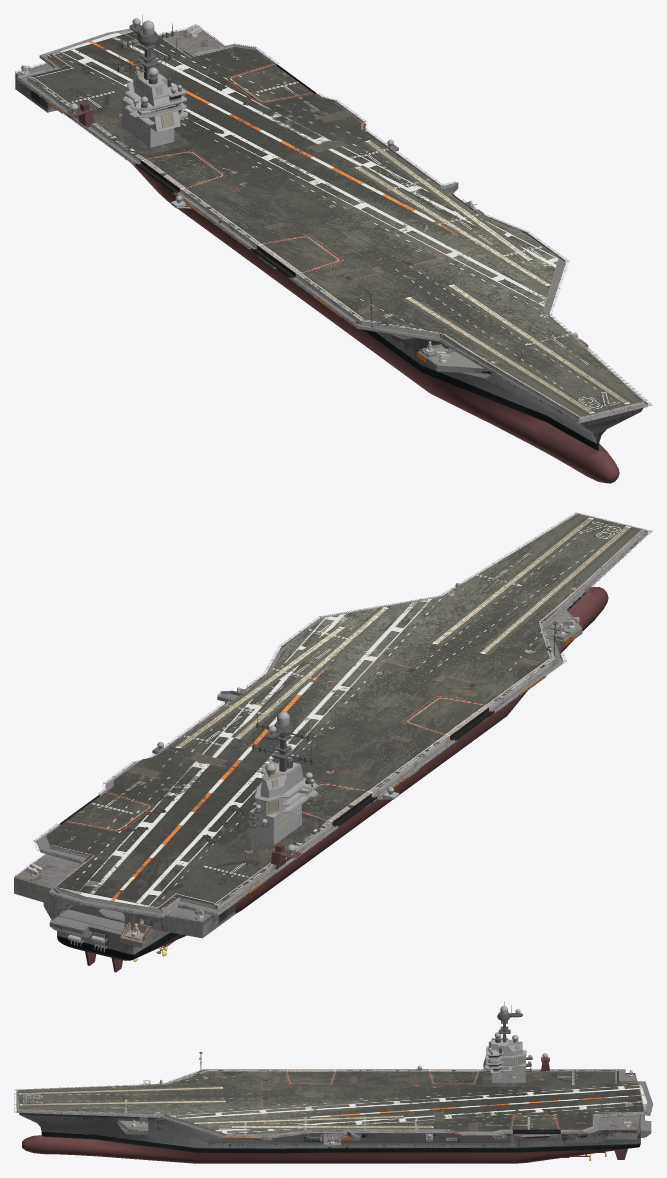
The model's file is gerald ford carrier.fbx.
3 views of the same model, one above another, from view 1: azimuth 30°, elevation 25°; view 2: azimuth 150°, elevation 25°; view 3: azimuth 270°, elevation 25° (orthographic). The views are drawn at different scales.
Visible parts, largest first — view 1: ship_deck, ship_lower, ship_mid, ship_bridge, hull_handrail132, elevator_right_back, elevator_right_front, elevator_left_back, pCube169; view 2: ship_deck, ship_mid, ship_lower, ship_bridge, hull_handrail132, elevator_right_front, elevator_right_back, elevator_left_back, pCube169; view 3: ship_deck, ship_lower, ship_mid, ship_bridge, hull_handrail132, elevator_left_back, elevator_right_back, elevator_right_front, pCube169.
Part boxes in pixels (x1,y1,x2,y2): ship_deck: (16, 28, 648, 423); ship_lower: (131, 163, 619, 483); ship_mid: (15, 30, 643, 444); ship_bridge: (122, 67, 187, 147); hull_handrail132: (14, 25, 652, 423); elevator_right_back: (135, 151, 220, 193); elevator_right_front: (251, 236, 336, 277); elevator_left_back: (232, 63, 315, 99); pCube169: (117, 14, 177, 80); ship_deck: (37, 513, 648, 918); ship_mid: (14, 610, 582, 954); ship_lower: (57, 586, 608, 960); ship_bridge: (249, 762, 318, 845); hull_handrail132: (15, 512, 652, 933); elevator_right_front: (409, 698, 494, 740); elevator_right_back: (302, 784, 377, 826); elevator_left_back: (60, 793, 144, 830); pCube169: (252, 712, 313, 771); ship_deck: (16, 1069, 652, 1138); ship_lower: (22, 1132, 640, 1163); ship_mid: (19, 1074, 651, 1147); ship_bridge: (483, 1039, 526, 1082); hull_handrail132: (14, 1038, 651, 1145); elevator_left_back: (512, 1116, 560, 1133); elevator_right_back: (431, 1069, 478, 1083); elevator_right_front: (288, 1069, 335, 1082); pCube169: (497, 1001, 522, 1042).
Bounding box in the file's own units: 324 × 265 × 1209.
11 materials, 10 textured.
